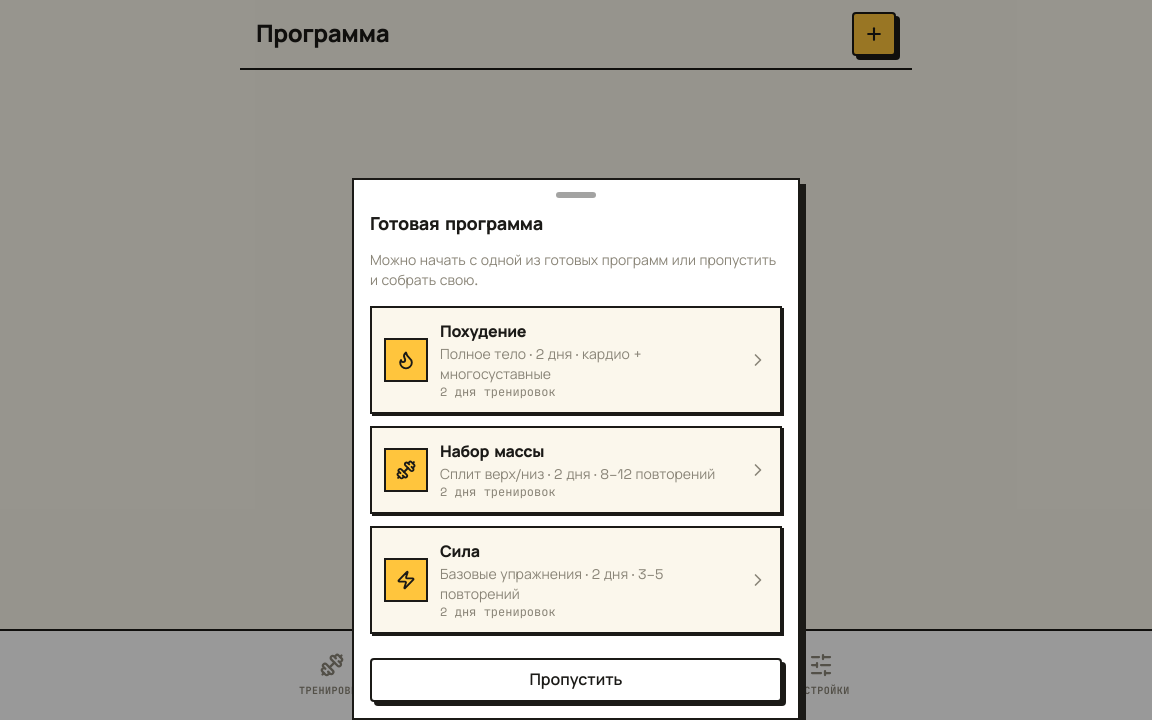
Test case: Starter Program prompt › shows on launch when Routines is empty, and applying a program seeds it
Click the button "Сила".
click(576, 580)  # box [370,526,782,634]
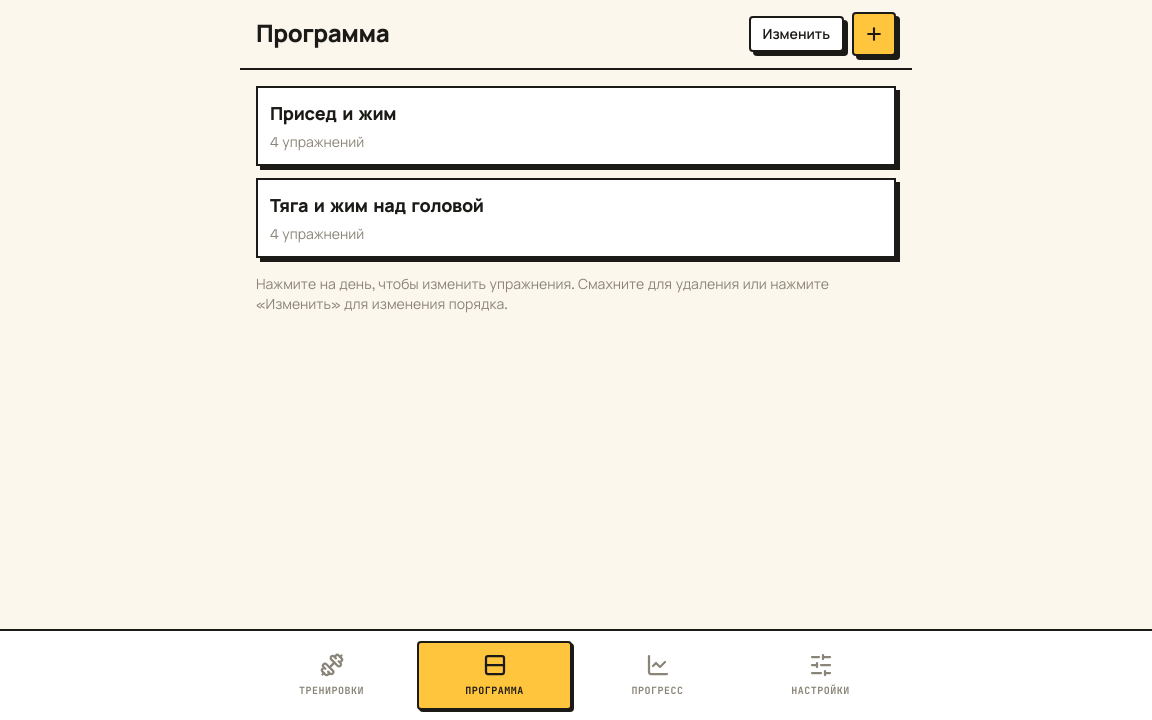
Expected: the text "Присед и жим" is shown, [270,104,396,124]
Expected: the text "Тяга и жим над головой" is shown, [270,196,484,216]
